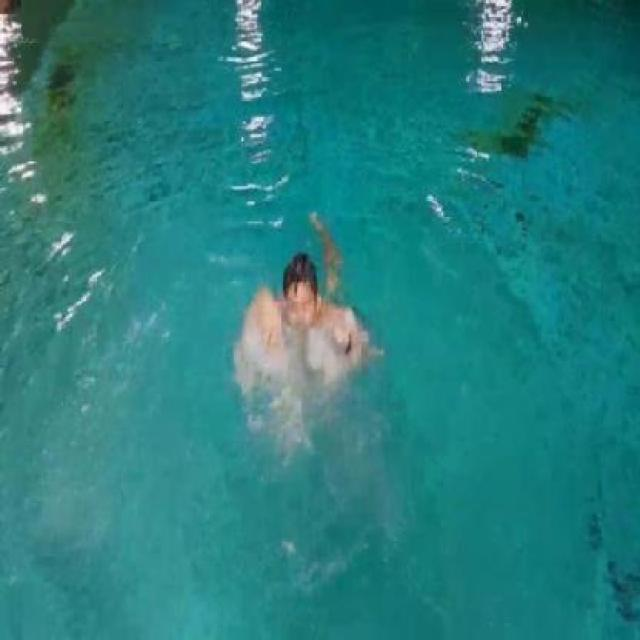Drowning: (229, 250, 385, 415)
